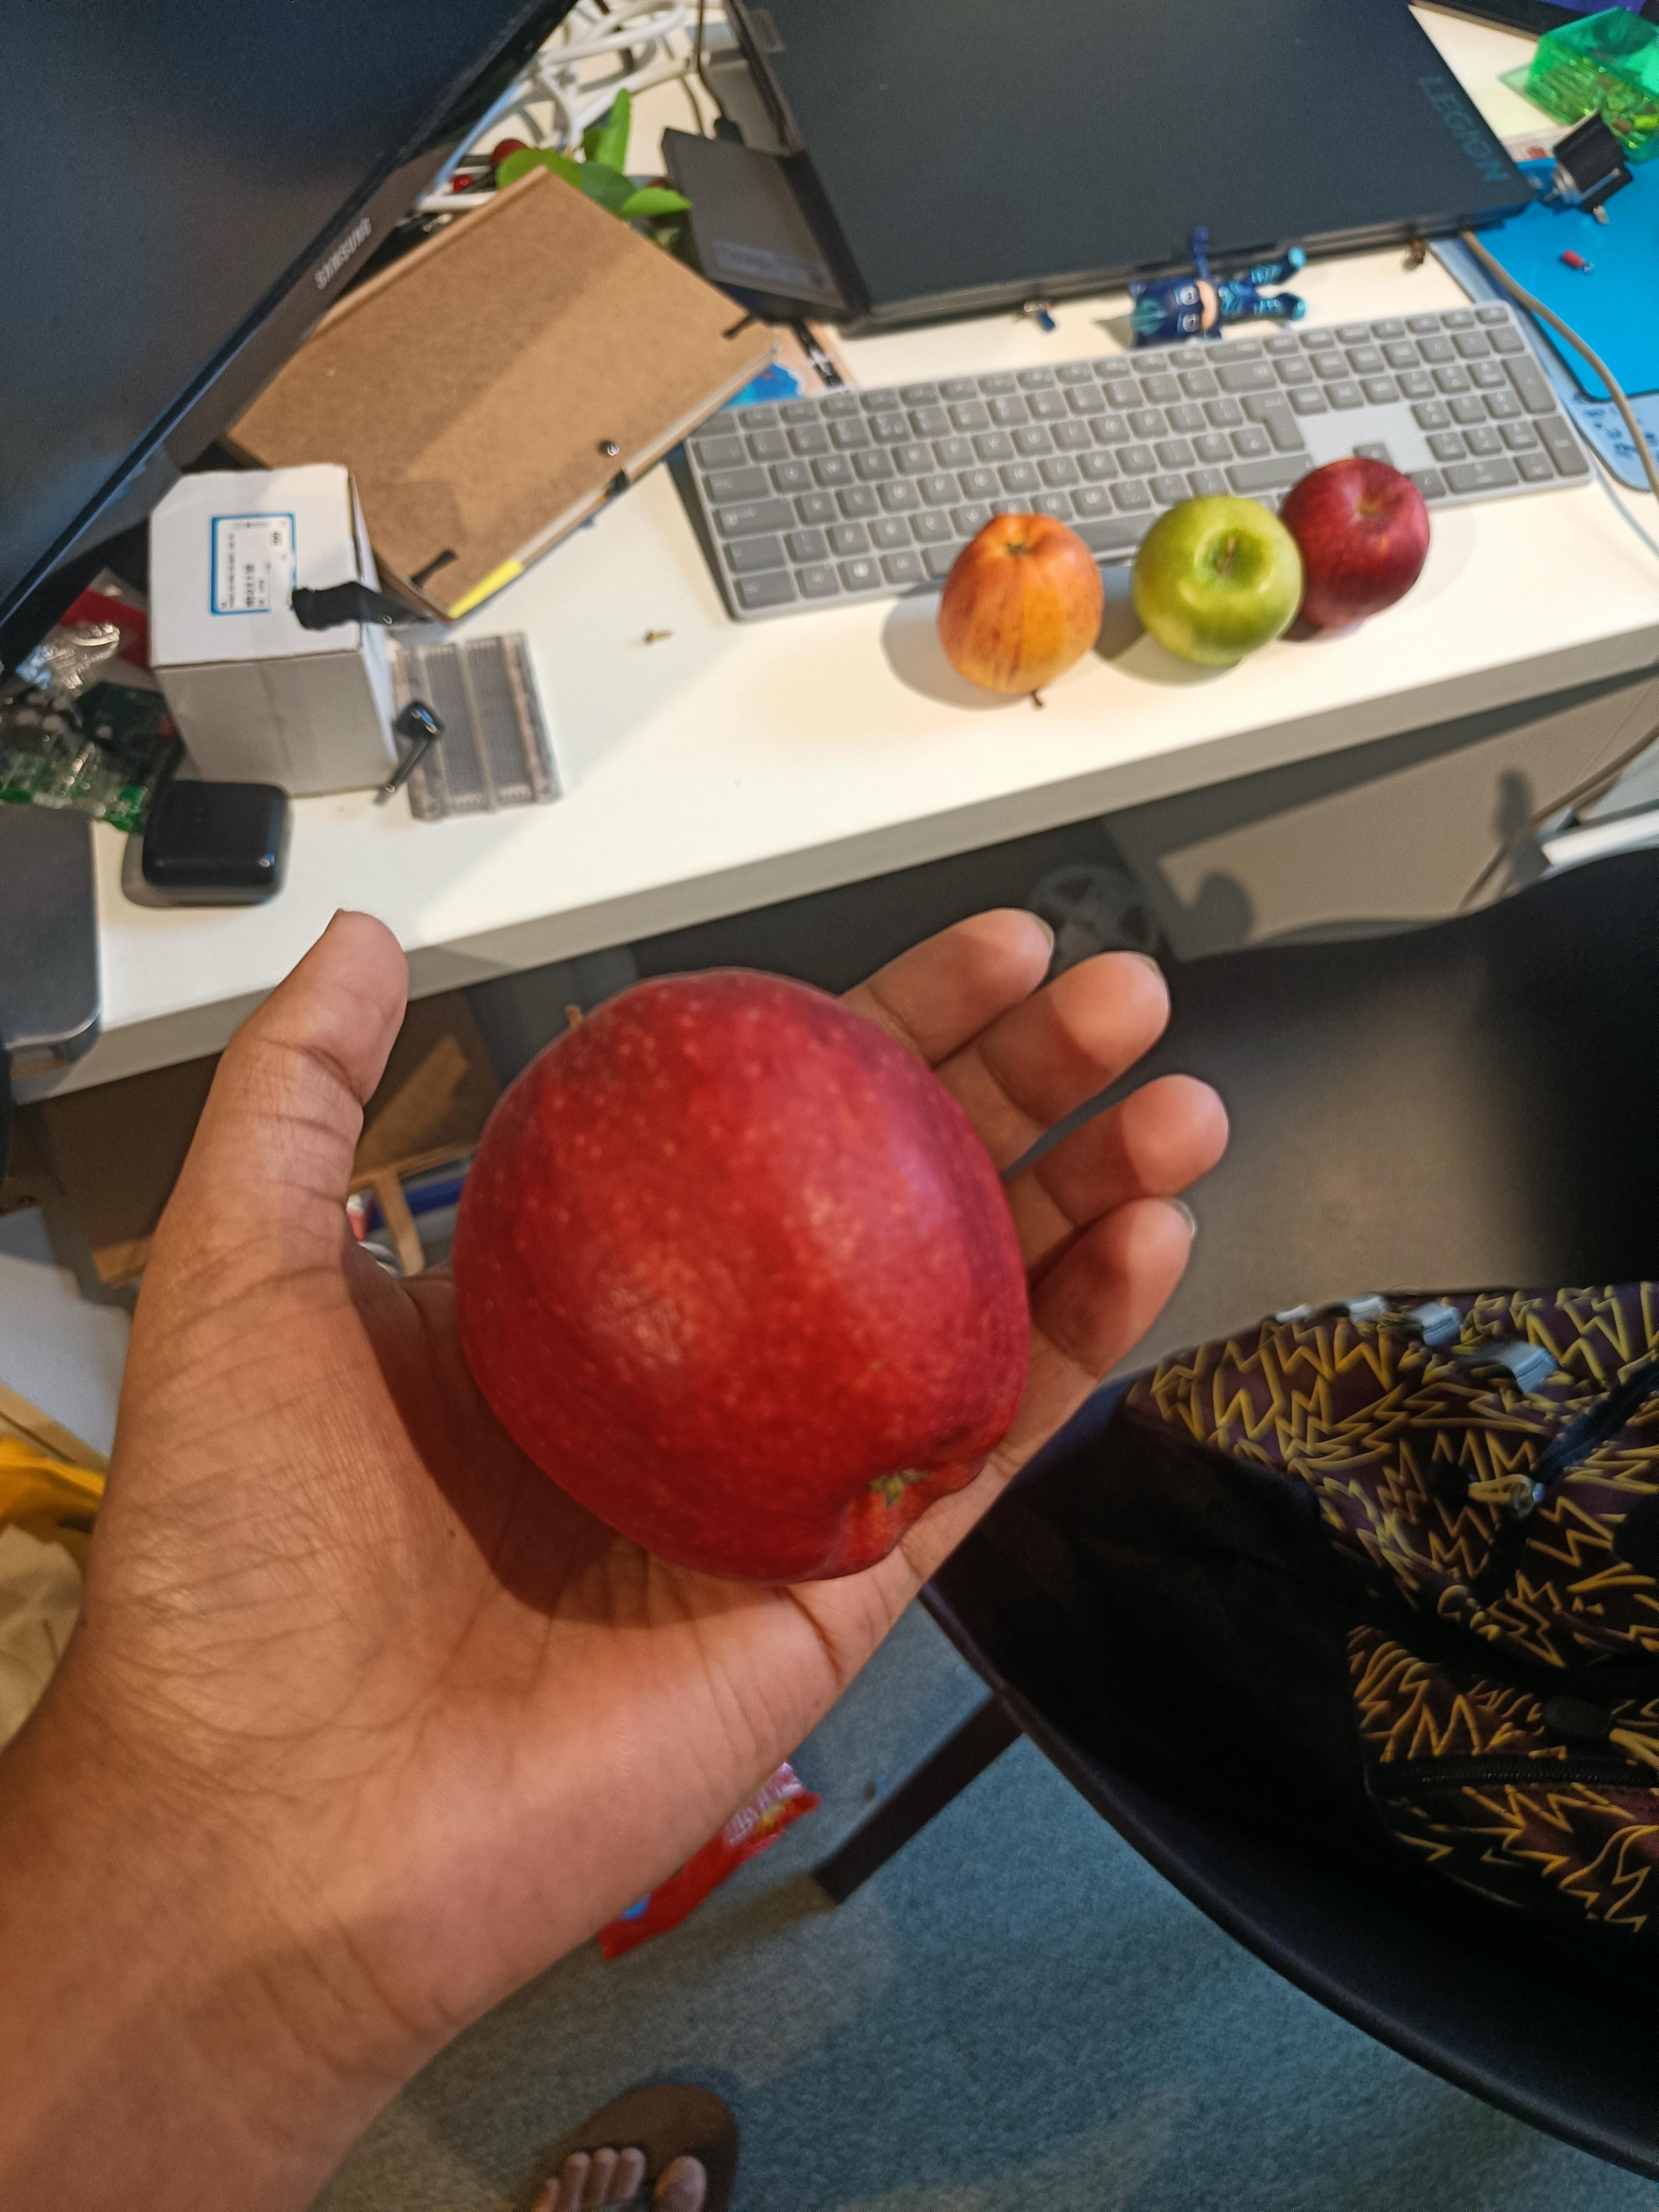Apple: (432, 956, 1021, 1606)
